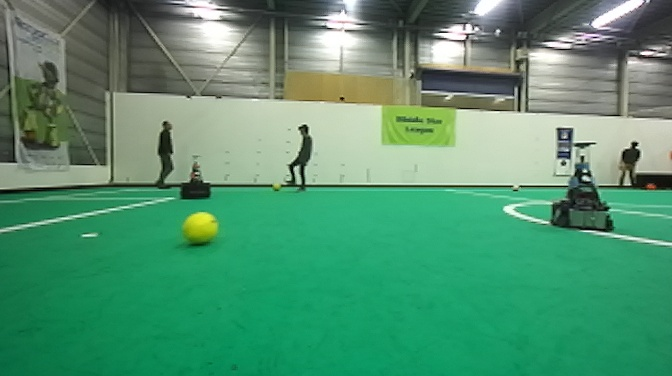ball: (183, 212, 217, 247), (270, 179, 284, 194), (510, 182, 522, 194), (645, 181, 657, 193)
human: (287, 122, 314, 191), (151, 120, 177, 190), (619, 141, 643, 189)
robot: (549, 139, 616, 232), (177, 153, 215, 201)
